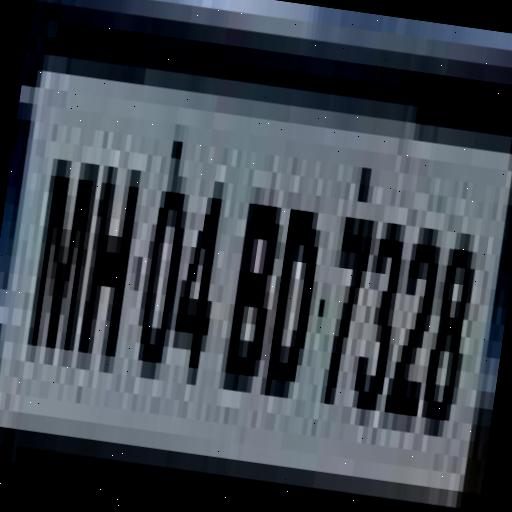number plate: (0, 18, 510, 512)
